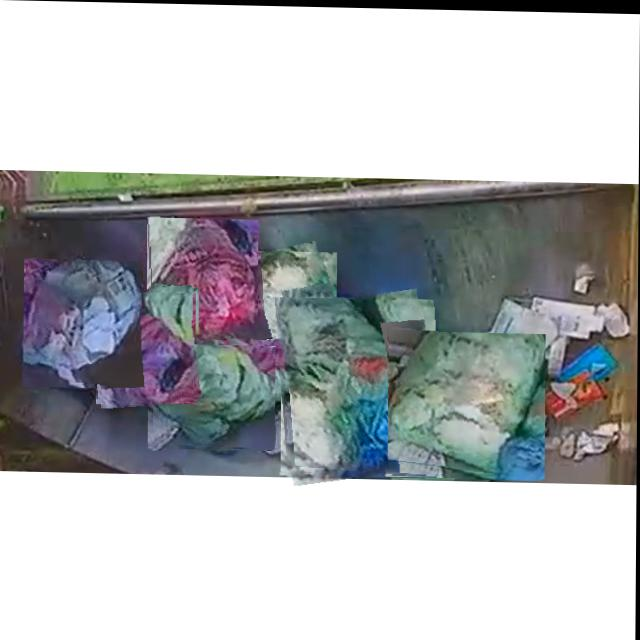general_trashbag: (275, 297, 438, 472), (388, 330, 546, 473), (223, 250, 336, 392), (152, 345, 275, 447)
other_trashbag: (25, 259, 140, 383), (150, 218, 257, 336), (94, 292, 195, 403)
